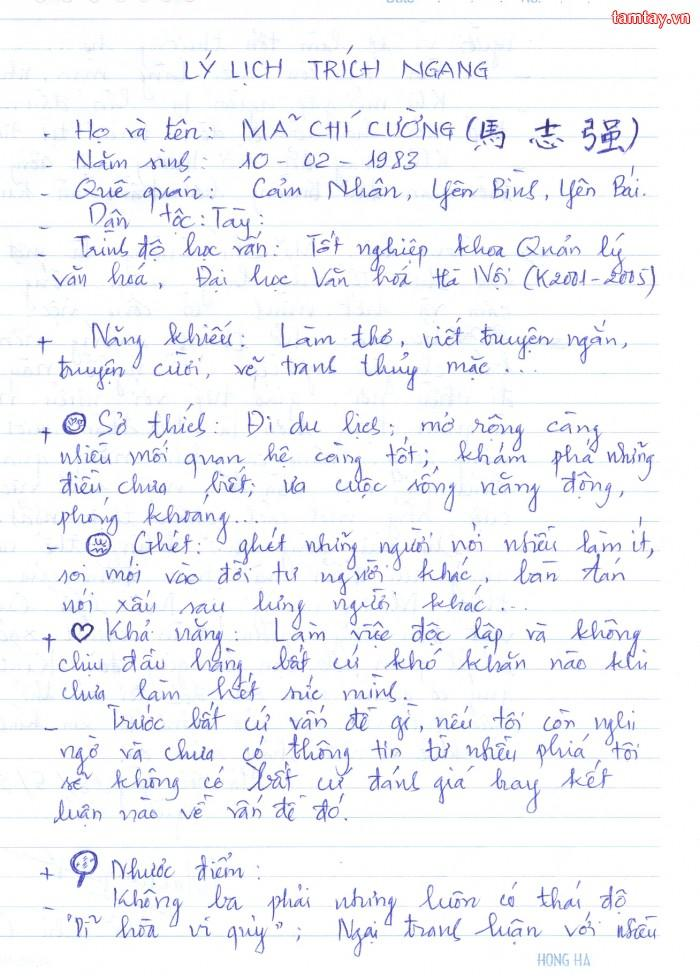text: (58, 757, 619, 813), (73, 101, 645, 155), (54, 433, 659, 484), (70, 163, 649, 215), (63, 911, 664, 960), (105, 874, 632, 928), (53, 464, 630, 513), (98, 613, 647, 664), (56, 644, 656, 690), (88, 315, 634, 365), (53, 552, 633, 599), (48, 259, 666, 303), (128, 514, 660, 565), (54, 731, 644, 776), (93, 401, 607, 452), (74, 230, 642, 275), (102, 702, 641, 749), (54, 350, 541, 394), (59, 584, 532, 628), (179, 43, 494, 87), (58, 669, 413, 708), (50, 788, 352, 830), (54, 493, 263, 547), (72, 145, 422, 176), (80, 201, 267, 239), (108, 850, 264, 887), (608, 7, 694, 33), (529, 949, 598, 969)
